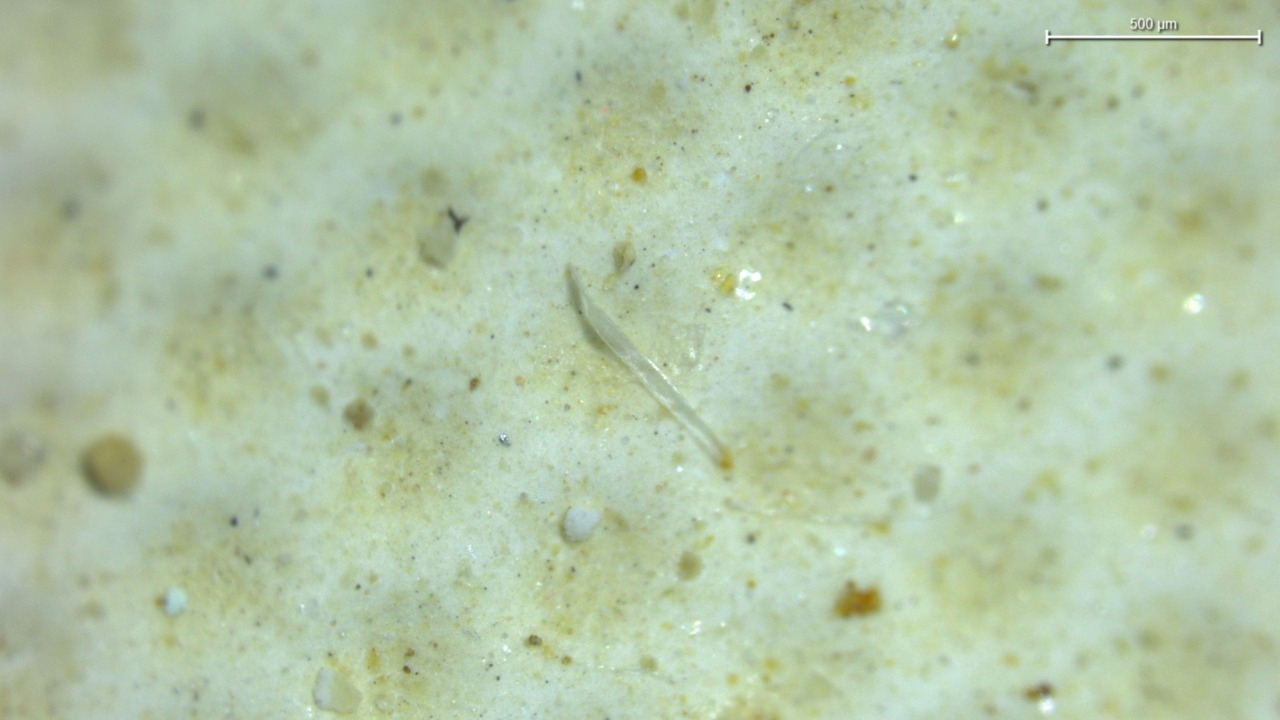microplastic_fragment: (562, 505, 601, 541)
